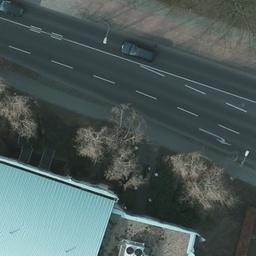car: (121, 40, 155, 61), (1, 1, 24, 14)
